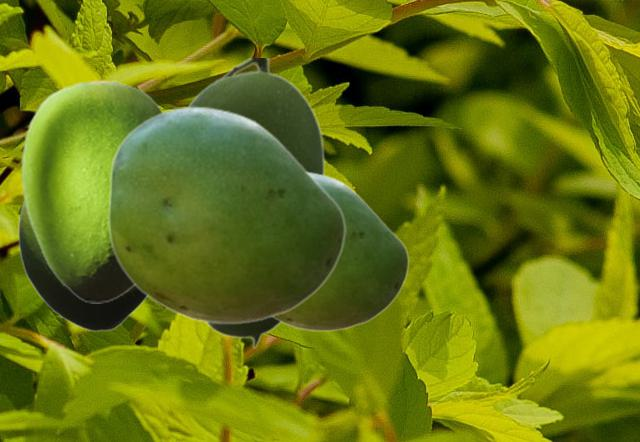green_mango: (107, 105, 345, 324), (20, 79, 164, 302), (272, 171, 408, 331), (17, 200, 146, 331), (186, 58, 324, 173), (205, 319, 280, 348)
